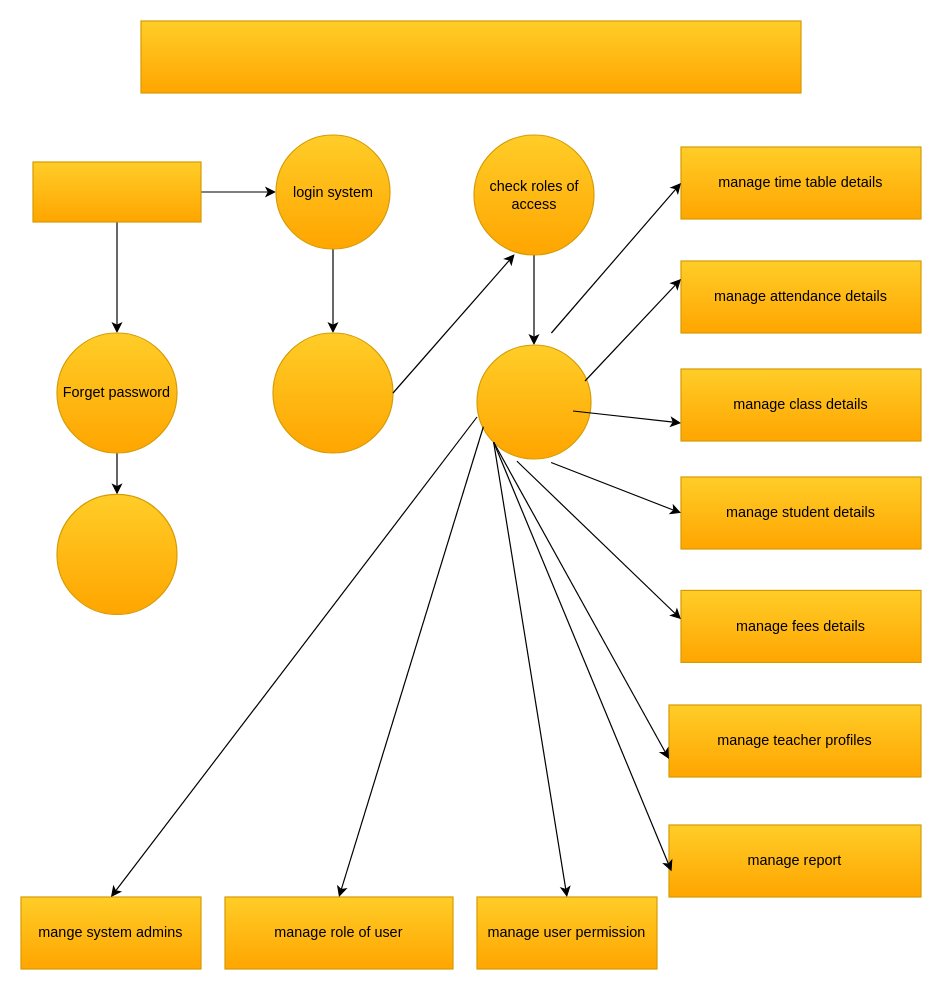
This 942x990 diagram has some shape labels left out. Each missing label, with the centre of its shape:
Admin: point 116,191
check credentials: point 332,392
Send email to user: point 116,553
Student information system: point 470,56
